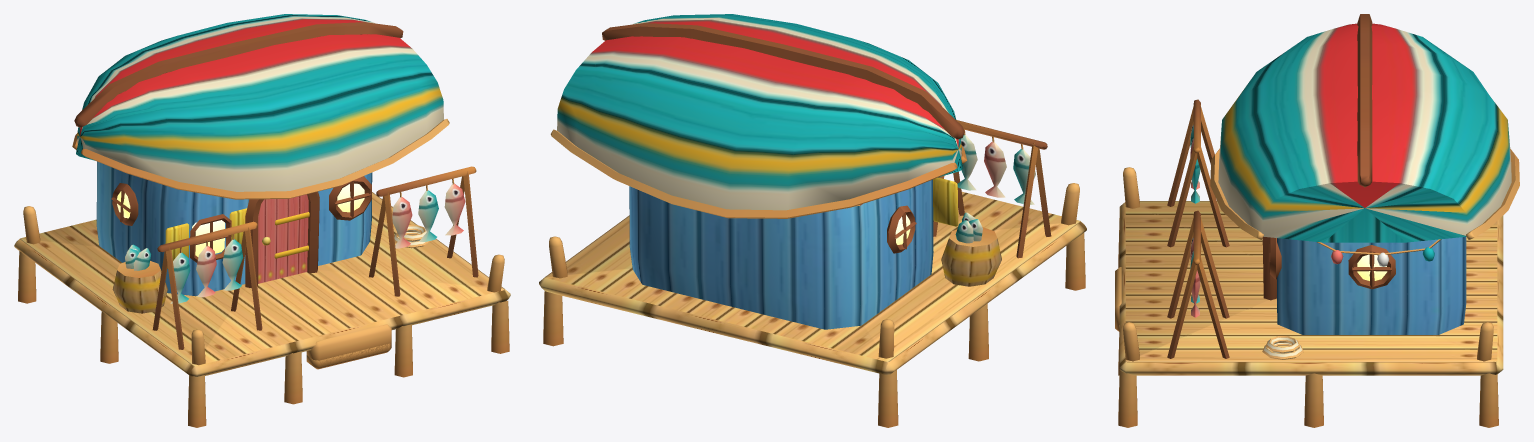
The model's file is fishery.glb.
3 renders of one model, left to right at view 1: azimuth 30°, elevation 25°; view 2: azimuth 150°, elevation 25°; view 3: azimuth 270°, elevation 25°, orthographic. The views are drawn at different scales.
Visible parts, largest first — view 1: fishery; view 2: fishery; view 3: fishery.
Part boxes in pixels (x1=…): fishery: x1=14, y1=14, x2=510, y2=427; fishery: x1=539, y1=14, x2=1086, y2=427; fishery: x1=1115, y1=14, x2=1519, y2=427.
Bounding box in the file's own units: 7.1 × 5.42 × 7.18.
Materials: 4 (4 with a texture image).
